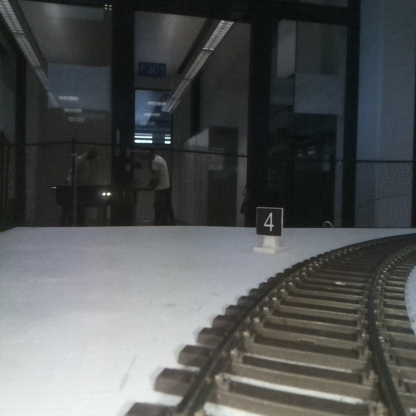black-stop-4: (256, 209, 282, 251)
